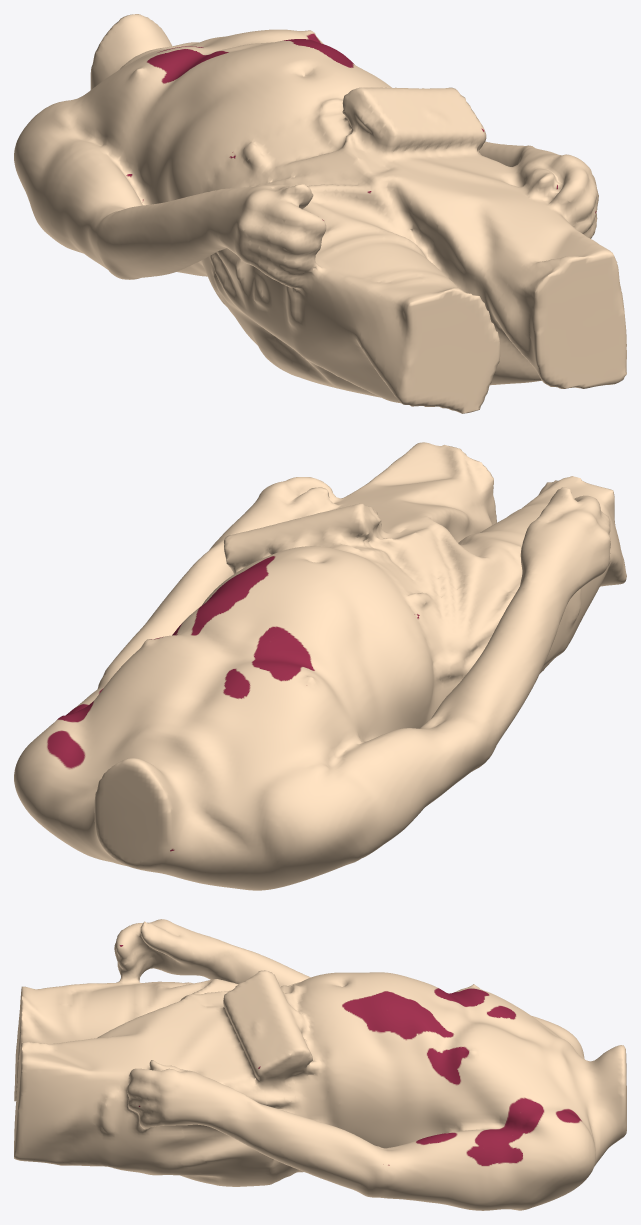
File: Case.glb
3 views of the same model, one above another, from view 1: azimuth 30°, elevation 25°; view 2: azimuth 150°, elevation 25°; view 3: azimuth 270°, elevation 25° (orthographic). The views are drawn at different scales.
Visible parts, largest first — view 1: Case 1; view 2: Case 1; view 3: Case 1.
Part boxes in pixels (<box>): Case 1: <box>14,14,626,413</box>; Case 1: <box>14,442,626,890</box>; Case 1: <box>14,919,626,1210</box>.
Size of the model in its own units: 0.6404 by 0.3986 by 1.12.
Materials: 1 (1 with a texture image).
